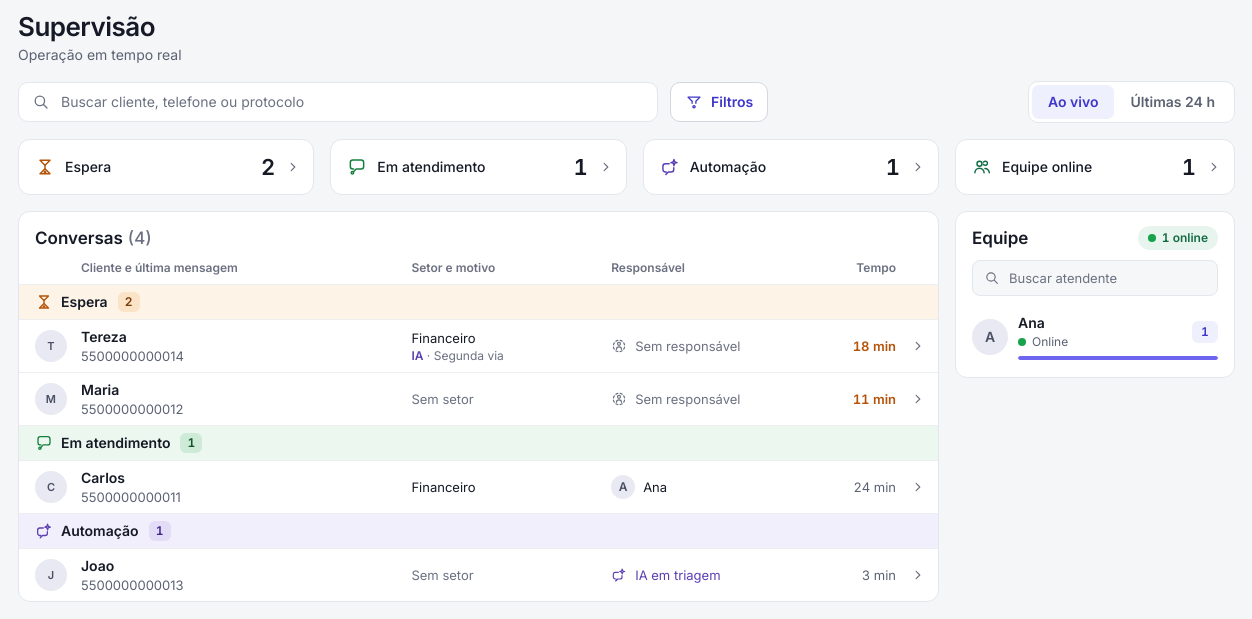
Scenario: Supervisão: busca única › a busca local também acha pelo protocolo
Type "0014" into the search field labelled "Buscar cliente, telefone ou protocolo" at (338, 102), box [18, 82, 658, 122]
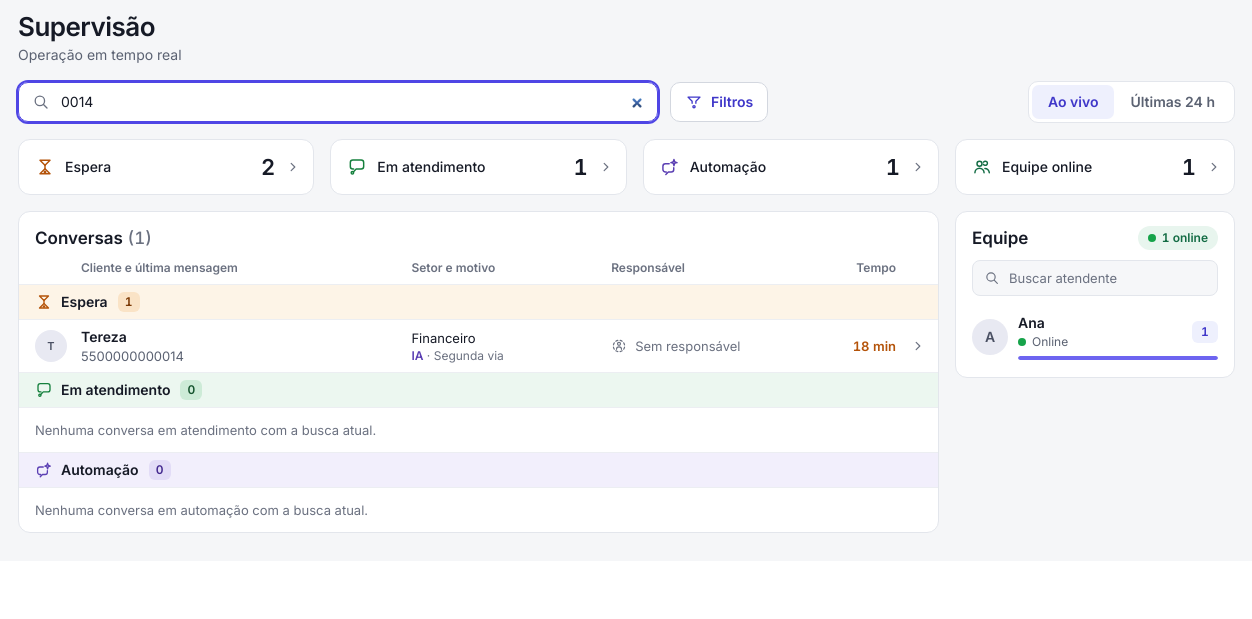
Expected: the button "Tereza" is shown, [19, 320, 938, 372]
Result: the button "Maria" is gone
